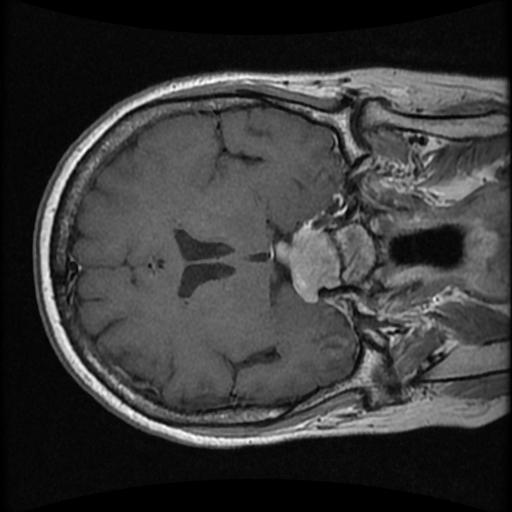pituitary tumour: (277, 225, 341, 302)
